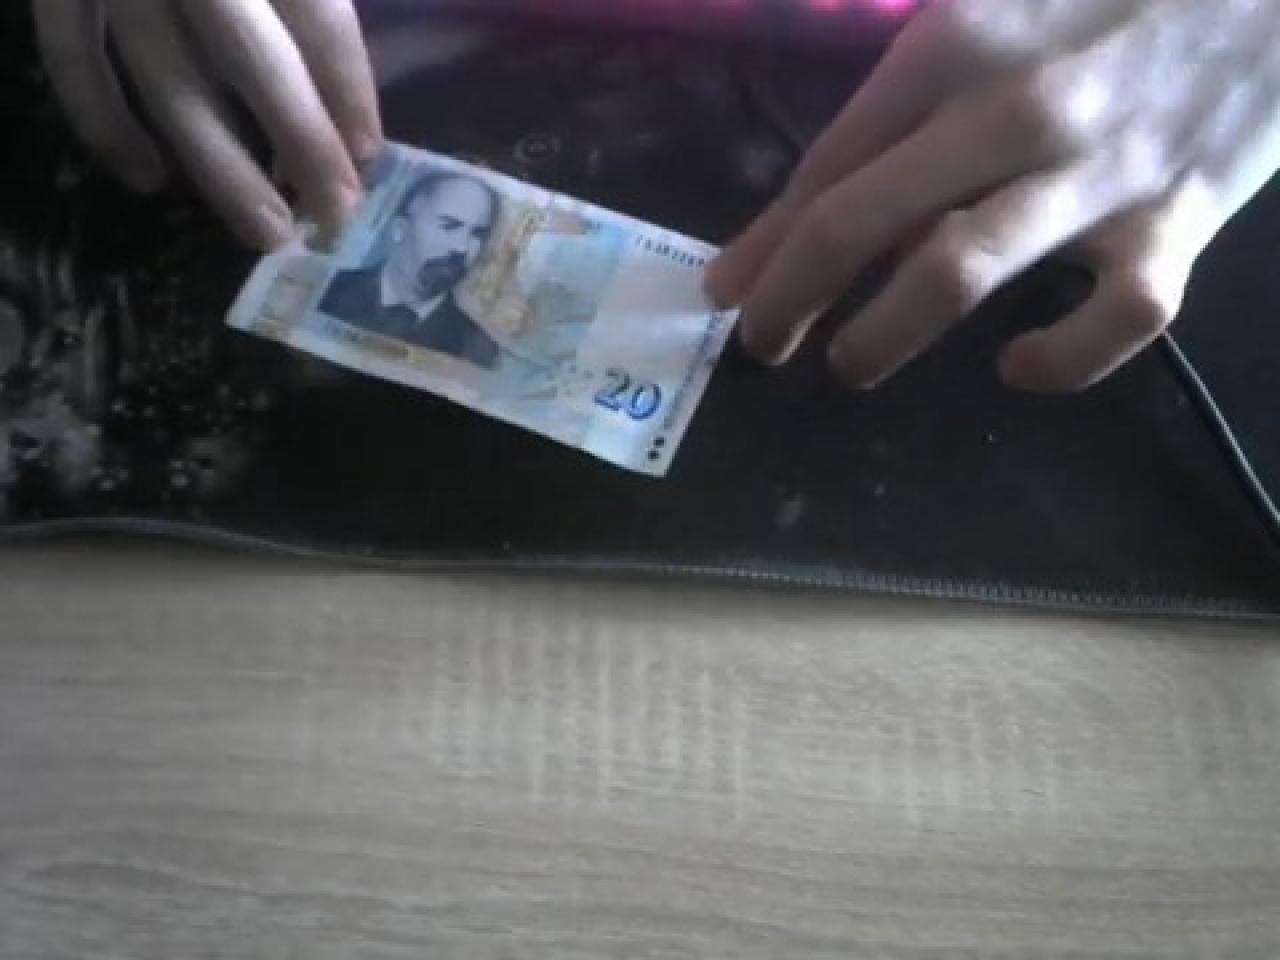20leva: (222, 136, 742, 480)
